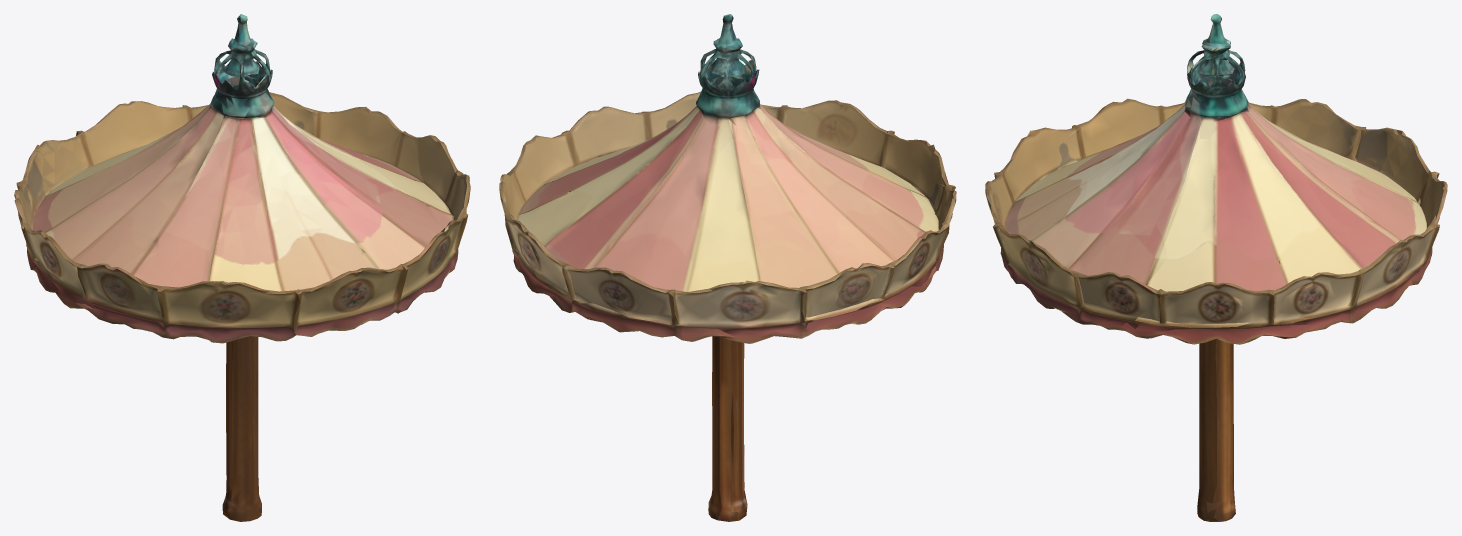
Rendered from unified--carousel-roof.glb.
3 renders of one model, left to right at view 1: azimuth 30°, elevation 25°; view 2: azimuth 150°, elevation 25°; view 3: azimuth 270°, elevation 25°, orthographic.
Visible parts, largest first — view 1: carousel-roof-0; view 2: carousel-roof-0; view 3: carousel-roof-0.
Part boxes in pixels (bbox=[...]): carousel-roof-0: bbox=[14, 14, 470, 521]; carousel-roof-0: bbox=[499, 14, 956, 521]; carousel-roof-0: bbox=[985, 14, 1447, 521].
Bounding box in the file's own units: 3 × 3.62 × 3.04.
Materials: 1 (1 with a texture image).
